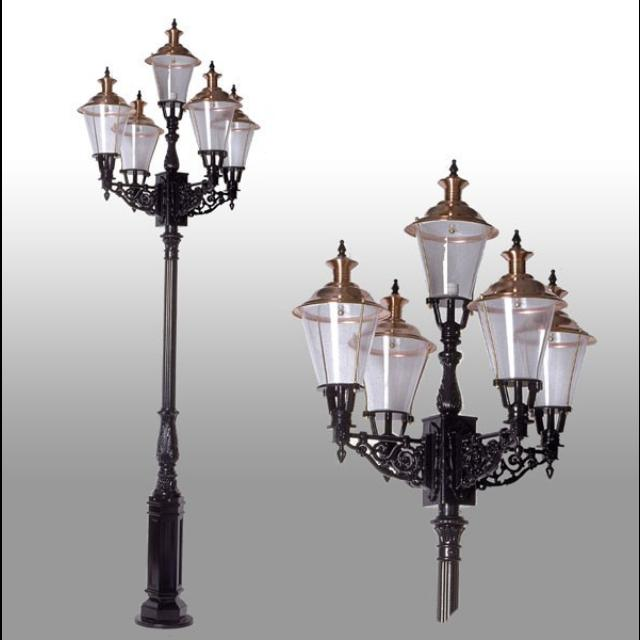Street-Lamp: (78, 21, 256, 629)
